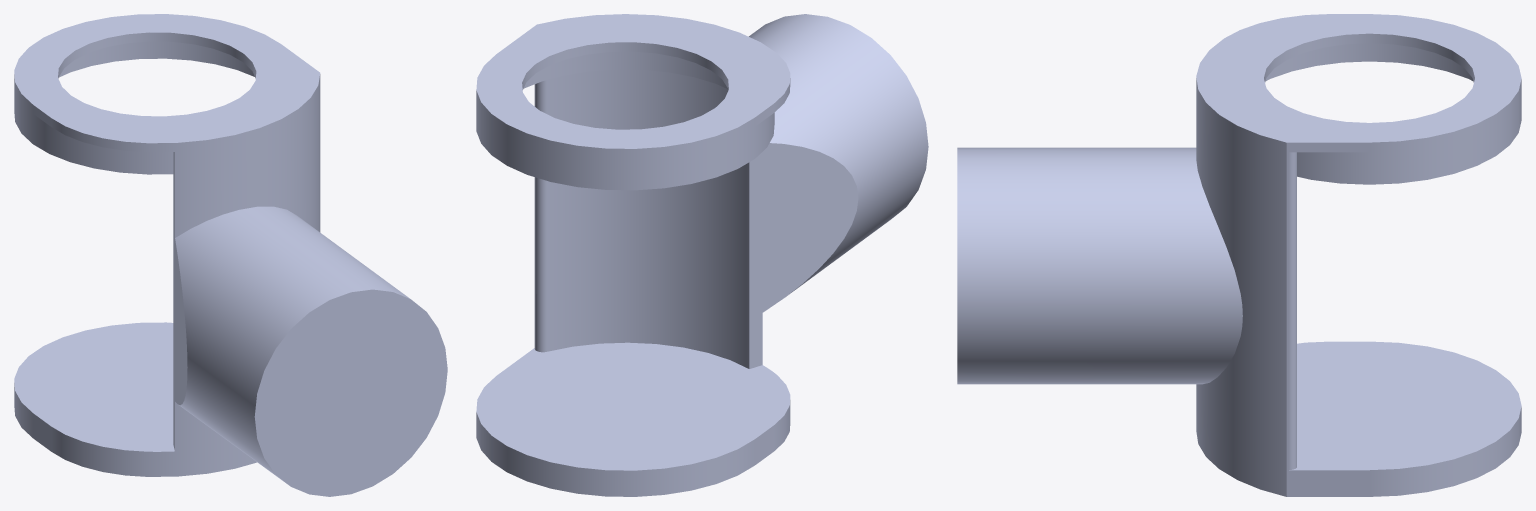
3 views of the same model, side by side, from view 1: azimuth 30°, elevation 25°; view 2: azimuth 150°, elevation 25°; view 3: azimuth 270°, elevation 25° (orthographic). The views are drawn at different scales.
Parts seen in each view (by area): view 1: FBXASC195FBXASC148FBXASC194FBXASC178FBXASC194FBXASC189FBXASC; view 2: FBXASC195FBXASC148FBXASC194FBXASC178FBXASC194FBXASC189FBXASC; view 3: FBXASC195FBXASC148FBXASC194FBXASC178FBXASC194FBXASC189FBXASC.
Part boxes in pixels (left/top/right/bottom): FBXASC195FBXASC148FBXASC194FBXASC178FBXASC194FBXASC189FBXASC: left=14, top=14, right=447, bottom=496; FBXASC195FBXASC148FBXASC194FBXASC178FBXASC194FBXASC189FBXASC: left=476, top=14, right=928, bottom=496; FBXASC195FBXASC148FBXASC194FBXASC178FBXASC194FBXASC189FBXASC: left=957, top=14, right=1521, bottom=496.
Bounding box in the file's own units: 0.072 × 0.1335 × 0.0925.
